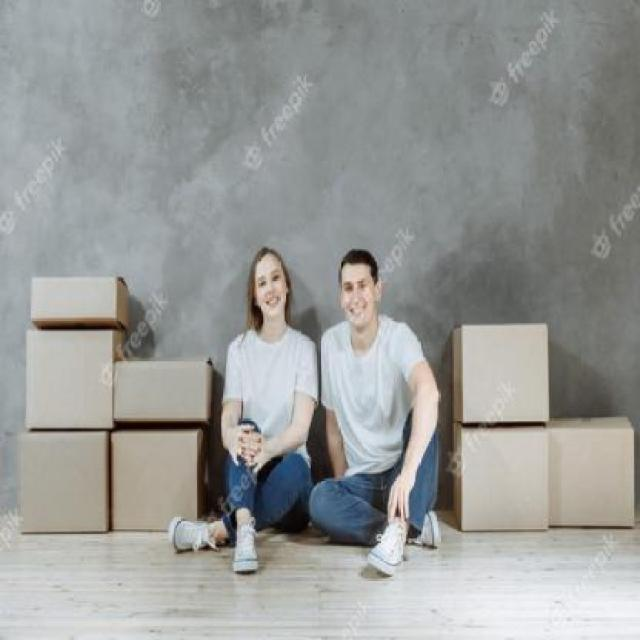box: (441, 418, 546, 533), (106, 420, 206, 536), (543, 416, 639, 536), (20, 324, 120, 434), (448, 324, 548, 428), (14, 427, 108, 537), (109, 359, 212, 429), (26, 273, 136, 330)
